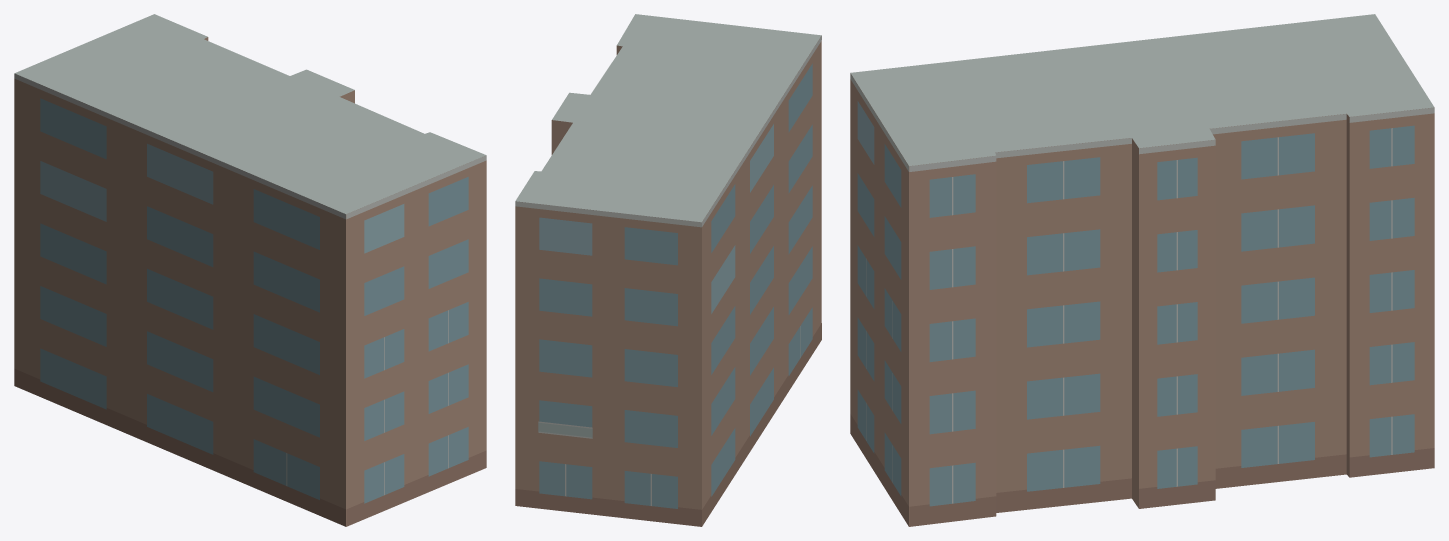
The model's file is survey-upis-32646896.glb.
3 views of the same model, side by side, from view 1: azimuth 30°, elevation 25°; view 2: azimuth 150°, elevation 25°; view 3: azimuth 270°, elevation 25° (orthographic). The views are drawn at different scales.
Visible parts, largest first — view 1: survey-upis-32646896.tmp; view 2: survey-upis-32646896.tmp; view 3: survey-upis-32646896.tmp.
Part boxes in pixels (bbox=[...]): survey-upis-32646896.tmp: bbox=[14, 14, 486, 526]; survey-upis-32646896.tmp: bbox=[515, 14, 821, 526]; survey-upis-32646896.tmp: bbox=[850, 14, 1434, 526].
Bounding box in the file's own units: 13.31 × 14.7 × 21.59.
